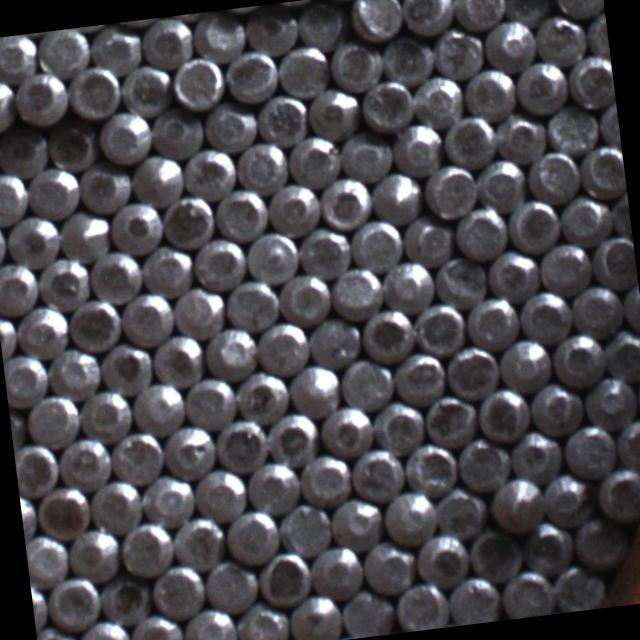tool: (210, 412, 272, 473), (464, 524, 527, 584), (472, 382, 532, 444), (34, 480, 96, 540), (570, 512, 630, 574), (514, 286, 574, 346), (420, 389, 480, 449), (504, 426, 564, 486), (442, 340, 502, 400), (485, 472, 545, 532), (410, 530, 470, 590), (178, 142, 240, 200), (518, 518, 576, 580), (452, 433, 512, 492), (9, 67, 68, 127), (408, 70, 467, 130), (525, 378, 584, 437), (439, 110, 498, 169), (3, 209, 62, 268), (222, 506, 280, 566), (358, 304, 416, 364), (242, 456, 300, 516), (401, 438, 459, 498), (560, 420, 618, 480), (230, 366, 290, 424), (548, 558, 610, 614), (548, 329, 606, 388), (511, 57, 569, 116), (276, 499, 334, 558), (64, 522, 122, 581), (65, 293, 123, 352), (422, 160, 479, 220), (411, 298, 468, 358), (253, 548, 310, 608), (168, 512, 225, 572), (222, 275, 280, 333), (451, 204, 509, 262), (535, 238, 593, 296), (211, 184, 269, 242), (369, 397, 427, 455), (23, 390, 81, 448), (160, 190, 218, 248), (296, 450, 354, 508), (377, 32, 435, 90), (504, 196, 562, 254), (483, 246, 541, 304), (190, 464, 248, 522), (378, 488, 436, 546), (530, 10, 588, 68), (388, 348, 446, 406), (284, 130, 342, 188), (494, 334, 552, 392), (432, 482, 490, 540), (264, 406, 322, 464), (304, 84, 362, 142), (148, 330, 206, 388), (97, 336, 155, 394), (536, 469, 594, 527), (273, 42, 330, 101), (117, 289, 174, 348), (222, 47, 279, 106), (357, 76, 414, 135), (44, 573, 101, 631), (464, 292, 521, 350), (275, 268, 332, 326), (461, 64, 518, 122), (168, 53, 226, 110), (108, 426, 165, 484), (243, 227, 301, 284), (398, 212, 456, 269), (428, 24, 485, 82), (368, 167, 426, 224), (242, 3, 300, 60), (388, 119, 445, 177), (127, 150, 185, 207), (315, 174, 372, 232), (160, 421, 217, 479), (117, 518, 174, 576), (580, 368, 638, 425), (95, 107, 152, 164), (359, 538, 416, 595), (378, 255, 435, 312), (347, 216, 403, 274), (190, 234, 246, 292), (148, 562, 206, 618), (264, 178, 320, 236), (232, 136, 290, 192), (348, 446, 404, 504), (296, 222, 352, 280), (338, 354, 394, 412), (56, 432, 112, 490), (336, 128, 394, 184), (308, 540, 364, 598), (338, 584, 396, 640), (88, 475, 146, 531), (442, 572, 502, 626), (253, 319, 310, 375), (129, 378, 186, 434), (328, 492, 385, 548), (543, 100, 600, 156), (326, 37, 382, 94), (202, 556, 258, 613), (108, 198, 164, 255), (526, 146, 582, 203), (44, 118, 100, 175), (431, 252, 488, 308), (14, 301, 70, 358), (286, 359, 342, 416), (327, 262, 382, 320), (306, 313, 362, 369), (180, 373, 236, 429), (253, 90, 309, 146), (568, 280, 624, 336), (170, 282, 226, 338), (316, 402, 372, 458), (148, 104, 204, 160), (137, 14, 193, 70), (76, 385, 132, 441), (138, 241, 194, 297), (66, 64, 122, 120), (556, 191, 612, 247), (190, 8, 246, 64), (472, 154, 528, 210), (492, 108, 548, 164), (56, 206, 112, 262), (96, 571, 153, 626), (202, 98, 258, 153), (482, 15, 538, 70), (203, 324, 259, 379), (392, 578, 448, 633), (46, 342, 101, 398), (118, 59, 173, 115), (75, 160, 131, 215), (39, 252, 94, 308), (564, 51, 616, 110), (24, 164, 80, 218), (498, 567, 555, 620), (591, 464, 640, 525), (140, 471, 194, 526), (90, 248, 145, 302), (88, 22, 142, 76), (294, 0, 350, 52), (576, 140, 626, 198), (589, 231, 638, 289), (284, 591, 342, 640), (0, 122, 50, 178), (13, 438, 61, 496), (38, 26, 92, 77), (2, 349, 48, 406), (24, 530, 70, 587), (0, 258, 41, 317), (347, 0, 404, 42), (233, 598, 289, 640), (600, 324, 640, 380), (398, 0, 454, 36), (180, 604, 236, 640), (0, 33, 38, 84), (450, 0, 506, 32), (612, 411, 640, 471), (128, 610, 183, 640), (499, 0, 555, 29), (0, 168, 28, 223), (75, 616, 132, 640), (551, 0, 605, 21), (0, 77, 15, 135), (35, 622, 80, 640)
